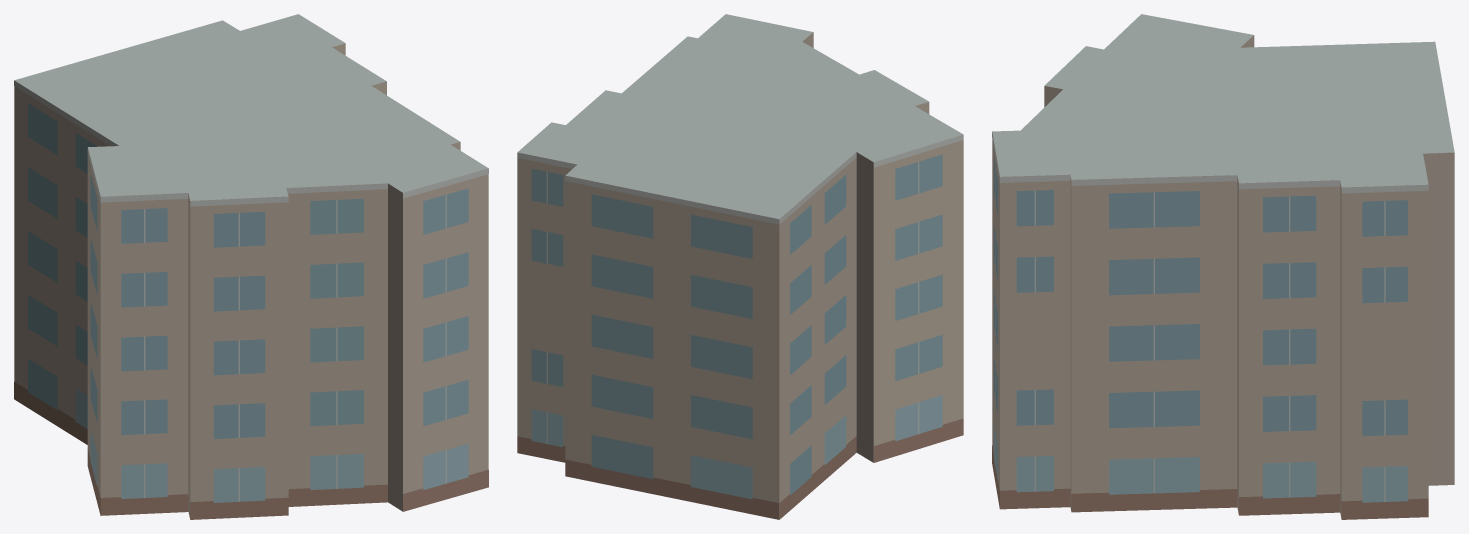
The model's file is survey-upis-32706235.glb.
3 views of the same model, side by side, from view 1: azimuth 30°, elevation 25°; view 2: azimuth 150°, elevation 25°; view 3: azimuth 270°, elevation 25° (orthographic). The views are drawn at different scales.
Parts seen in each view (by area): view 1: survey-upis-32706235.tmp; view 2: survey-upis-32706235.tmp; view 3: survey-upis-32706235.tmp.
Part boxes in pixels (<box>): survey-upis-32706235.tmp: <box>14,14,488,519</box>; survey-upis-32706235.tmp: <box>517,14,963,519</box>; survey-upis-32706235.tmp: <box>992,14,1454,519</box>.
Size of the model in its own units: 15.12 by 13.5 by 17.03.
